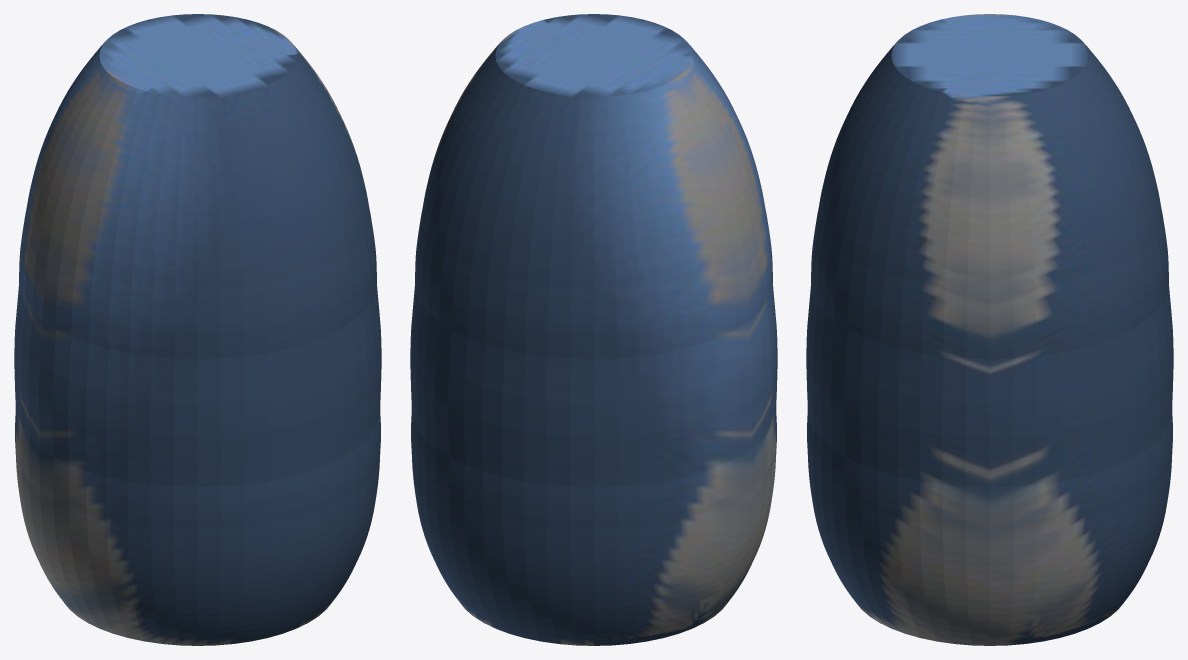
The picture shows the model from 3 angles, left to right: view 1: azimuth 30°, elevation 25°; view 2: azimuth 150°, elevation 25°; view 3: azimuth 270°, elevation 25°; orthographic projection.
Visible parts, largest first — view 1: geometry_0; view 2: geometry_0; view 3: geometry_0.
Part boxes in pixels (<box>): geometry_0: <box>14,14,381,645</box>; geometry_0: <box>410,14,777,645</box>; geometry_0: <box>806,14,1173,645</box>.
Size of the model in its own units: 0.1879 by 0.3 by 0.1879.
Materials: 1 (1 with a texture image).
